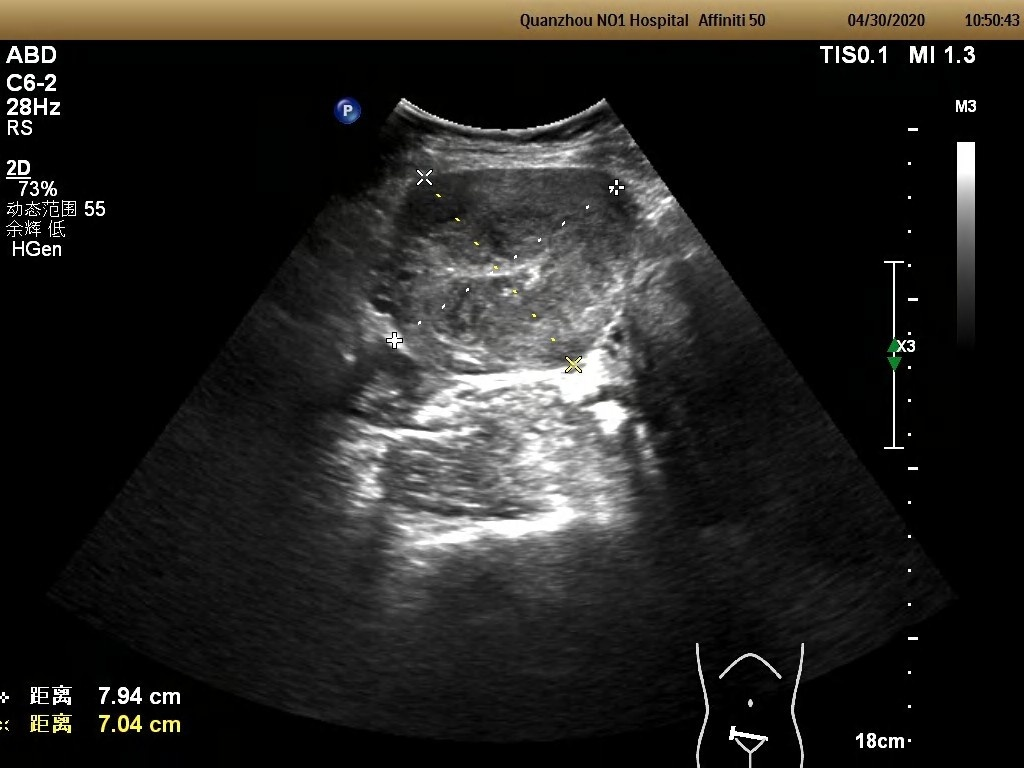肌瘤: (386, 173, 629, 360)
